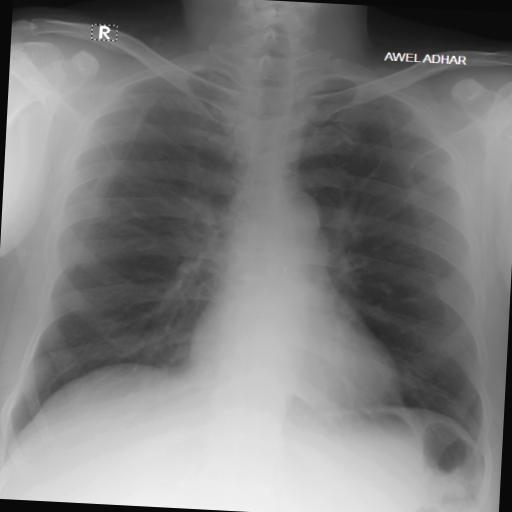normal: (6, 20, 510, 467)
